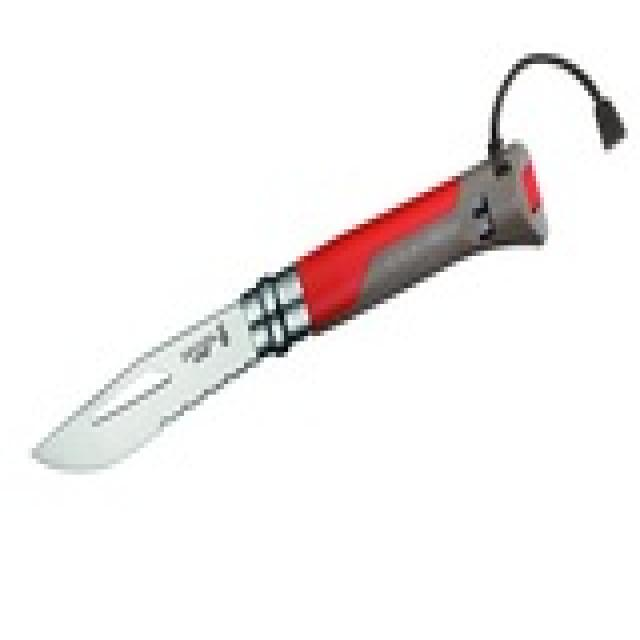Knife: (16, 130, 558, 507)
